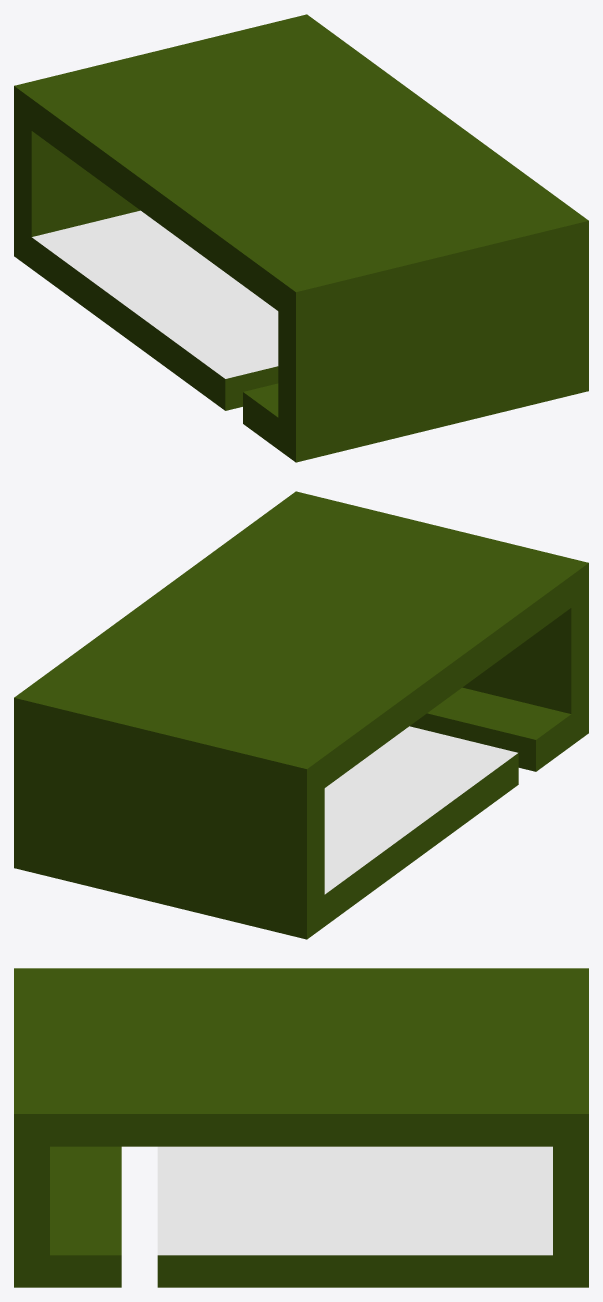
3 renders of one model, top to bottom at view 1: azimuth 30°, elevation 25°; view 2: azimuth 150°, elevation 25°; view 3: azimuth 270°, elevation 25°, orthographic.
Parts seen in each view (by area): view 1: Mesh1_coffee_table_almost_square2_1_Model; view 2: Mesh1_coffee_table_almost_square2_1_Model; view 3: Mesh1_coffee_table_almost_square2_1_Model.
Boxes of the visible parts, x1,y1,x2,y2 form: Mesh1_coffee_table_almost_square2_1_Model: (14,14,588,462); Mesh1_coffee_table_almost_square2_1_Model: (14,491,588,939); Mesh1_coffee_table_almost_square2_1_Model: (14,968,588,1287).
Bounding box in the file's own units: 0.6009 × 0.3338 × 1.
